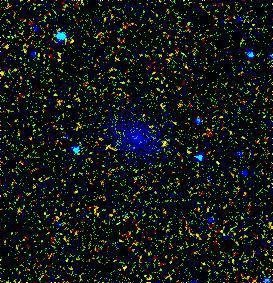star: (150, 129, 180, 159)
